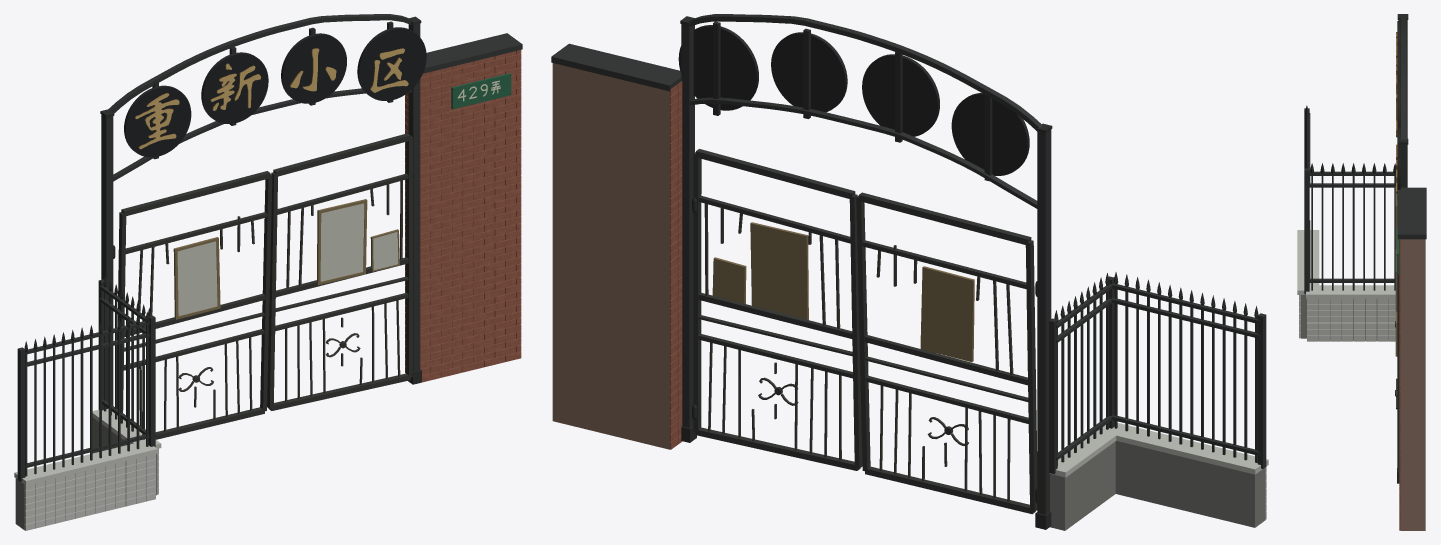
Rendered from huangpu-maris-village-wusheng-curved-gate-lod.glb.
3 views of the same model, side by side, from view 1: azimuth 30°, elevation 25°; view 2: azimuth 150°, elevation 25°; view 3: azimuth 270°, elevation 25° (orthographic). The views are drawn at different scales.
Visible parts, largest first — view 1: 马立斯新村武胜路北门弧形铁架与四字门牌; view 2: 马立斯新村武胜路北门弧形铁架与四字门牌; view 3: 马立斯新村武胜路北门弧形铁架与四字门牌.
Boxes of the visible parts, x1=… form: 马立斯新村武胜路北门弧形铁架与四字门牌: x1=14, y1=14, x2=522, y2=530; 马立斯新村武胜路北门弧形铁架与四字门牌: x1=551, y1=14, x2=1268, y2=530; 马立斯新村武胜路北门弧形铁架与四字门牌: x1=1297, y1=14, x2=1426, y2=530.
Size of the model in its own units: 5.54 by 3.73 by 1.19.
Materials: 16 (1 with a texture image).
